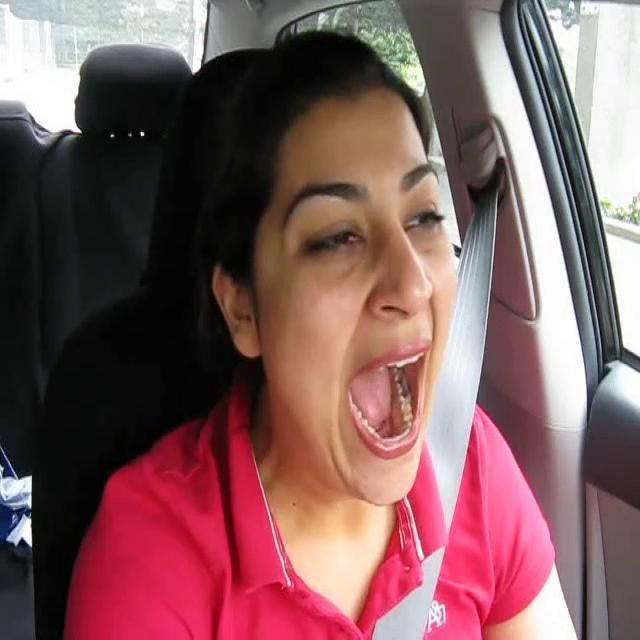open: (276, 174, 369, 270), (395, 159, 449, 252)
